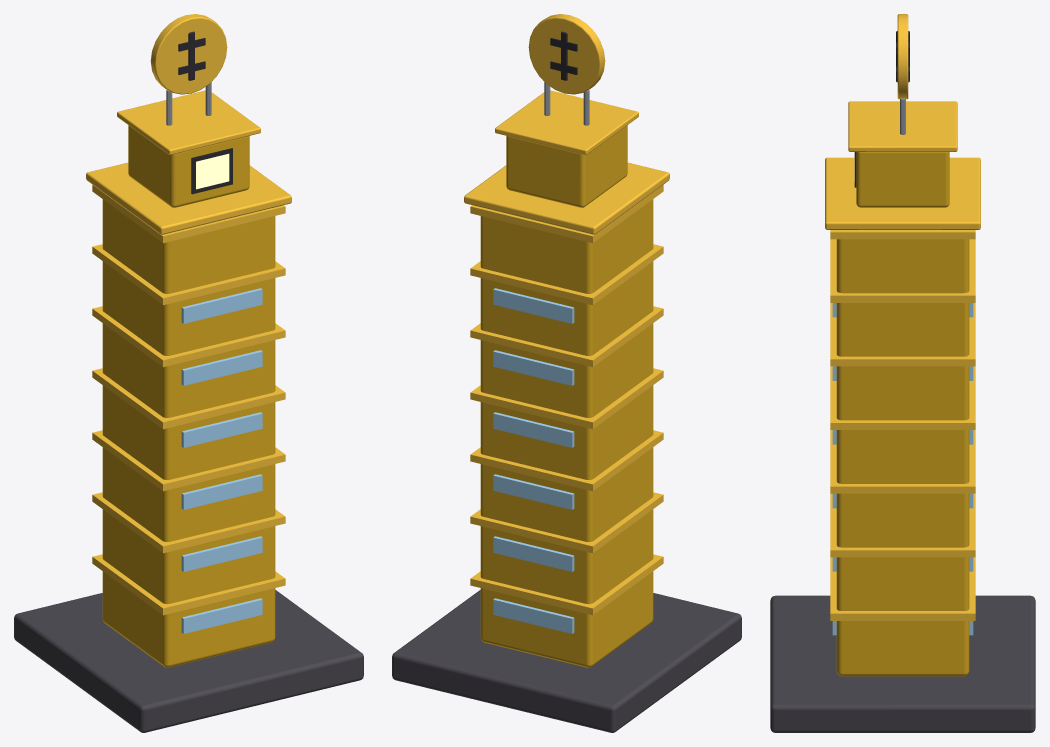
File: building_gold_tower_t1.glb
3 renders of one model, left to right at view 1: azimuth 30°, elevation 25°; view 2: azimuth 150°, elevation 25°; view 3: azimuth 270°, elevation 25°, orthographic. The views are drawn at different scales.
Parts seen in each view (by area): view 1: Shaft, Podium, Rib, RibbonBack, PenthouseSlab, PenthouseRoof, Penthouse, LogoCoin, PenthouseWindow, PenthouseWindowFrame; view 2: Shaft, Podium, Rib, RibbonFront, Penthouse, PenthouseSlab, PenthouseRoof, LogoCoin; view 3: Shaft, Podium, Rib, PenthouseSlab, PenthouseRoof, Penthouse, LogoCoin, RibbonBack, RibbonFront.
Boxes of the visible parts, box(x1,y1,x2,y2) form: Shaft: box(102, 199, 275, 667); Podium: box(14, 590, 363, 732); Rib: box(92, 184, 285, 615); RibbonBack: box(181, 288, 262, 633); PenthouseSlab: box(86, 162, 291, 234); PenthouseRoof: box(117, 90, 260, 154); Penthouse: box(128, 125, 249, 207); LogoCoin: box(150, 14, 227, 94); PenthouseWindow: box(196, 153, 229, 189); PenthouseWindowFrame: box(191, 148, 232, 194); Shaft: box(480, 199, 653, 667); Podium: box(392, 590, 741, 732); Rib: box(470, 184, 663, 615); RibbonFront: box(493, 288, 574, 633); Penthouse: box(506, 125, 627, 207); PenthouseSlab: box(464, 162, 669, 234); PenthouseRoof: box(495, 90, 638, 154); LogoCoin: box(528, 14, 605, 94); Shaft: box(836, 239, 969, 676); Podium: box(770, 595, 1035, 732); Rib: box(830, 230, 975, 620); PenthouseSlab: box(825, 157, 980, 229); PenthouseRoof: box(848, 101, 957, 151); Penthouse: box(856, 152, 949, 207); LogoCoin: box(897, 14, 908, 99); RibbonBack: box(832, 303, 836, 635); RibbonFront: box(969, 303, 973, 635).
Size of the model in its own units: 3.4 by 9.35 by 3.4.
